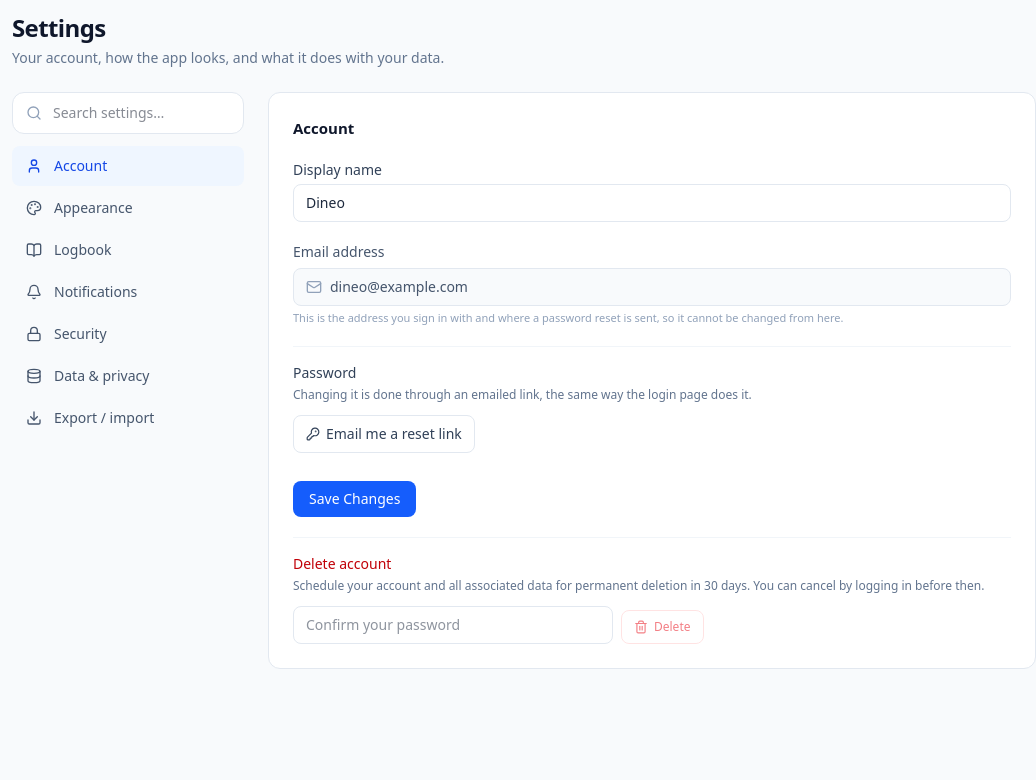
Test: SettingsPage — account › saves a new display name to the account
Replace the text in the field showing "Dineo" with "Dineo M" at [652, 202], box top-left (293, 184), bottom-right (1011, 222)
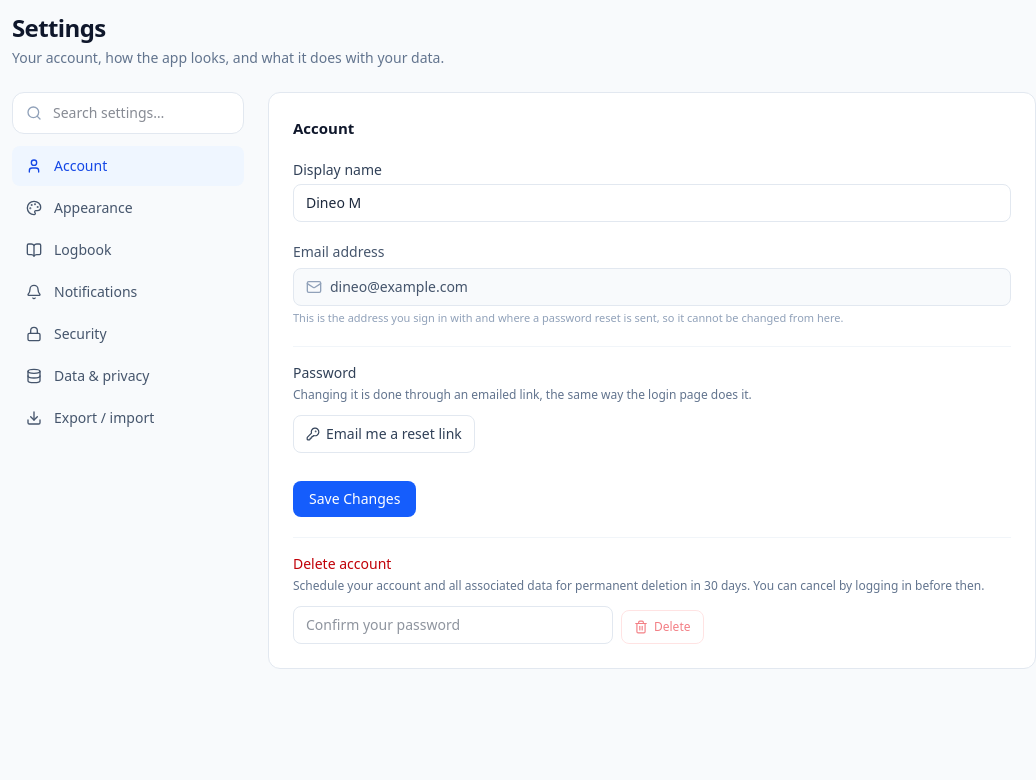
Click the button "Save Changes" at [355, 499], box top-left (293, 481), bottom-right (416, 517)
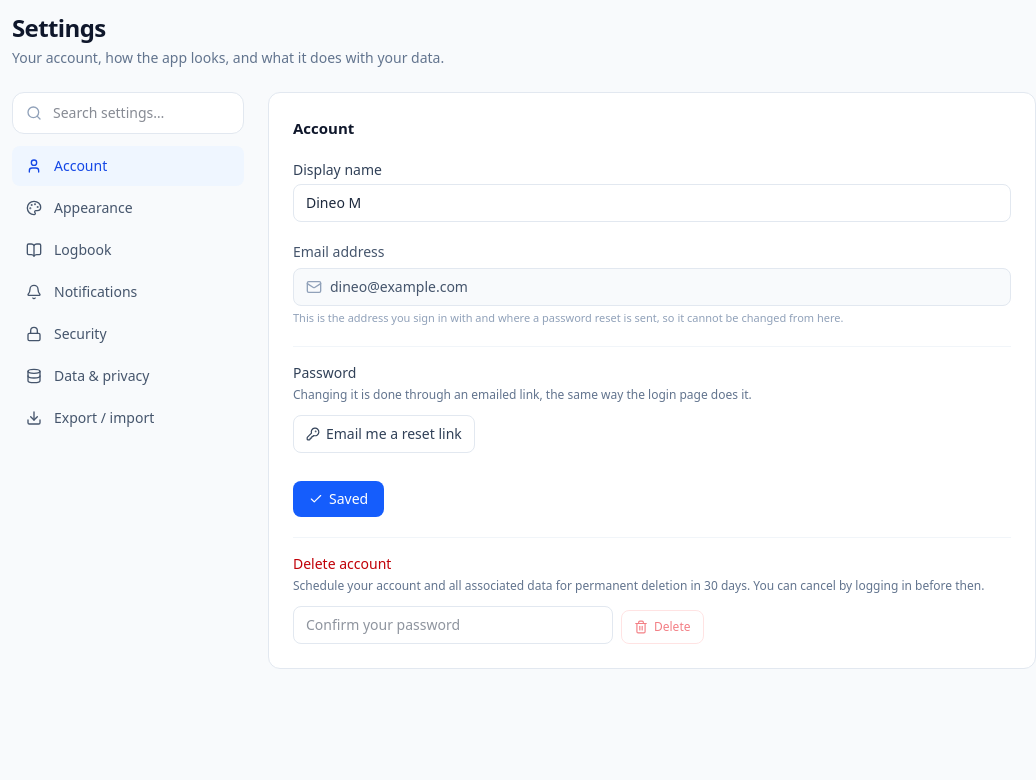
Expected: the button "Saved" is shown, top-left (293, 481), bottom-right (384, 517)
